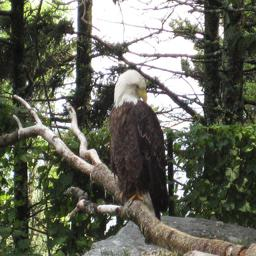bird: (196, 102, 256, 256)
